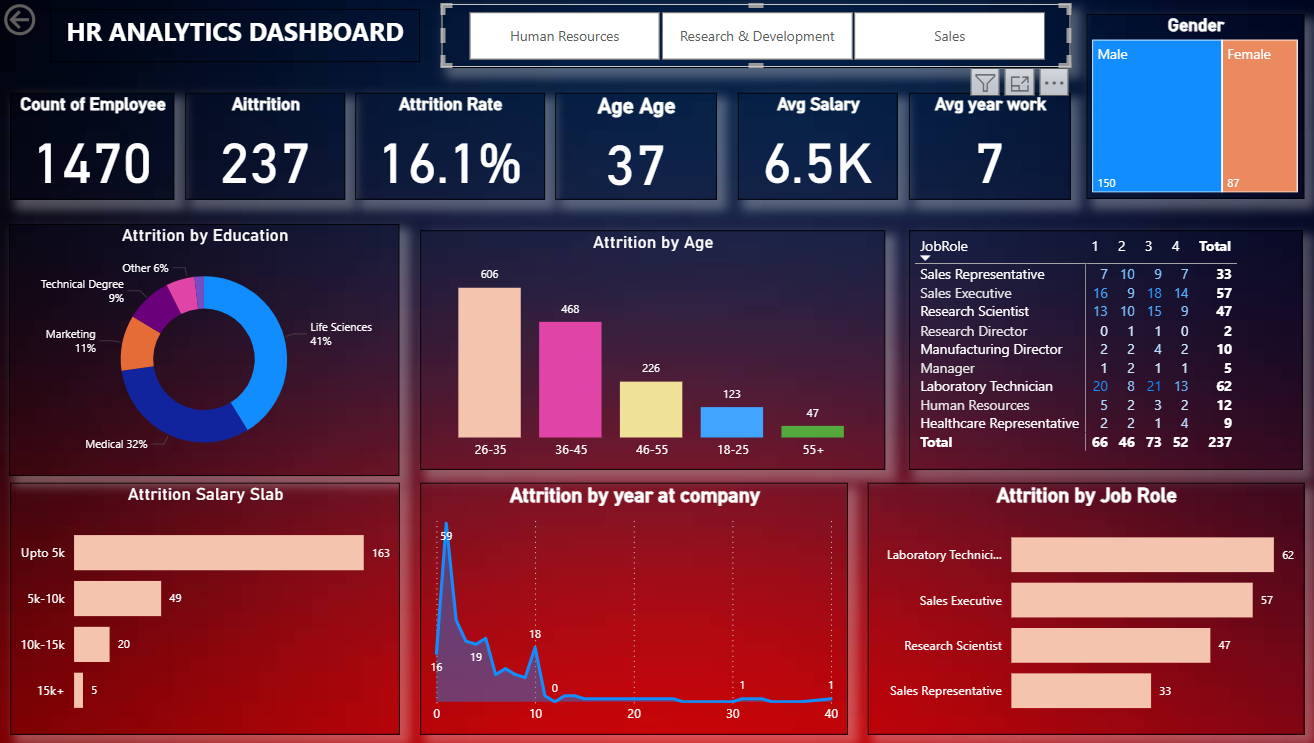

This screenshot's page, from the dashboard's own definition file:
{"tool":"powerbi","page":{"name":"Page 1","canvas":[1280,720],"ordinal":0},"visuals":[{"type":"card","title":"Count of Employee","fields":{"Values":["CountNonNull(HR_Analytics.EmployeeCount)"]},"box":[11.4,90,158.6,102.9],"z":0},{"type":"card","title":"Aittrition","fields":{"Values":["Sum(HR_Analytics.AttritionCount)"]},"box":[180,90,154.3,102.9],"z":1000},{"type":"card","title":"Attrition Rate","fields":{"Values":["HR_Analytics.AttritionRate"]},"box":[344.3,90,182.9,102.9],"z":2000},{"type":"card","title":"Age Age","fields":{"Values":["Avg(HR_Analytics.Age)"]},"box":[537.1,90,155.7,102.9],"z":3000},{"type":"card","title":"Avg Salary","fields":{"Values":["Avg(HR_Analytics.MonthlyIncome)"]},"box":[712.9,90,154.3,102.9],"z":4000},{"type":"card","title":"Avg year work","fields":{"Values":["Avg(HR_Analytics.YearsAtCompany)"]},"box":[878.6,90,155.7,102.9],"z":5000},{"type":"donutChart","title":"Attrition by Education","fields":{"Category":["HR_Analytics.EducationField"],"Y":["CountNonNull(HR_Analytics.Attrition)"]},"box":[10,217.1,377.1,242.9],"z":6000},{"type":"columnChart","title":"Attrition by Age","fields":{"Category":["HR_Analytics.AgeGroup"],"Y":["CountNonNull(HR_Analytics.AttritionCount)"]},"box":[407.1,222.9,448.6,231.4],"z":7000},{"type":"pivotTable","fields":{"Values":["Sum(HR_Analytics.AttritionCount)"],"Rows":["HR_Analytics.JobRole"],"Columns":["HR_Analytics.JobSatisfaction"]},"box":[878.6,222.9,380,231.4],"z":8000},{"type":"actionButton","box":[0,0,100,40],"z":9000},{"type":"areaChart","title":"Attrition by year at company","fields":{"Category":["HR_Analytics.YearsAtCompany"],"Y":["Sum(HR_Analytics.AttritionCount)"]},"box":[407.1,467.1,412.9,242.9],"z":10000},{"type":"clusteredBarChart","title":"Attrition by Job Role","fields":{"Category":["HR_Analytics.JobRole"],"Y":["Sum(HR_Analytics.AttritionCount)"]},"box":[838.6,467.1,421.4,242.9],"z":11000},{"type":"clusteredBarChart","title":"Attrition Salary Slab","fields":{"Category":["HR_Analytics.SalarySlab"],"Y":["Sum(HR_Analytics.AttritionCount)"]},"box":[11.4,467.1,375.7,242.9],"z":12000},{"type":"treemap","title":"Gender","fields":{"Group":["HR_Analytics.Gender"],"Values":["Sum(HR_Analytics.AttritionCount)"]},"box":[1050,14.3,210,178.6],"z":13000},{"type":"slicer","fields":{"Values":["HR_Analytics.Department"]},"box":[427.1,4.3,607.1,61.4],"z":14000},{"type":"textbox","box":[50,10,357.1,51.4],"z":15000}]}

Visuals, with their boxes in screenshot pixels (x1, y1, x2, y2), scaled from the page's 1280x720 canvas onto the 1314x743 screenshot:
"Count of Employee" card: box(12, 93, 175, 199)
"Aittrition" card: box(185, 93, 343, 199)
"Attrition Rate" card: box(353, 93, 541, 199)
"Age Age" card: box(551, 93, 711, 199)
"Avg Salary" card: box(732, 93, 890, 199)
"Avg year work" card: box(902, 93, 1062, 199)
"Attrition by Education" donutChart: box(10, 224, 397, 475)
"Attrition by Age" columnChart: box(418, 230, 878, 469)
pivotTable - Sum(HR_Analytics.AttritionCount) x HR_Analytics.JobRole: box(902, 230, 1292, 469)
actionButton: box(0, 0, 103, 41)
"Attrition by year at company" areaChart: box(418, 482, 842, 733)
"Attrition by Job Role" clusteredBarChart: box(861, 482, 1293, 733)
"Attrition Salary Slab" clusteredBarChart: box(12, 482, 397, 733)
"Gender" treemap: box(1078, 15, 1293, 199)
slicer - HR_Analytics.Department: box(438, 4, 1062, 68)
textbox: box(51, 10, 418, 63)
